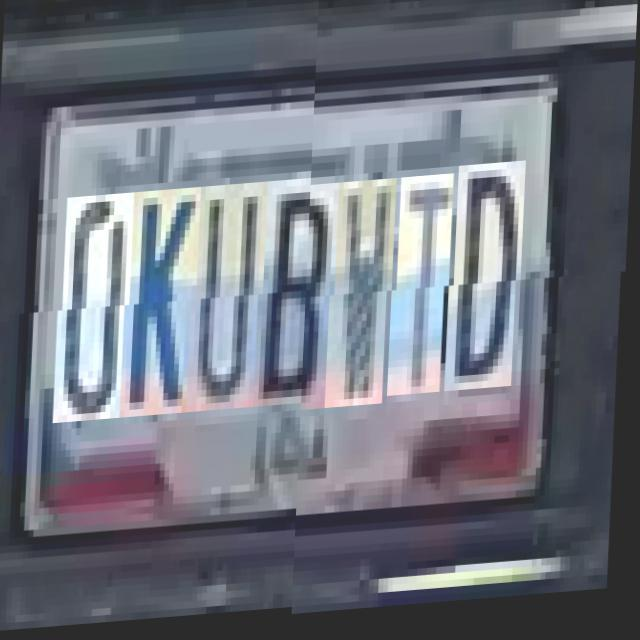0: (61, 202, 136, 431)
B: (262, 188, 341, 418)
D: (453, 170, 528, 399)
K: (128, 198, 202, 426)
T: (396, 182, 456, 402)
U: (194, 194, 270, 422)
W: (334, 185, 398, 414)
